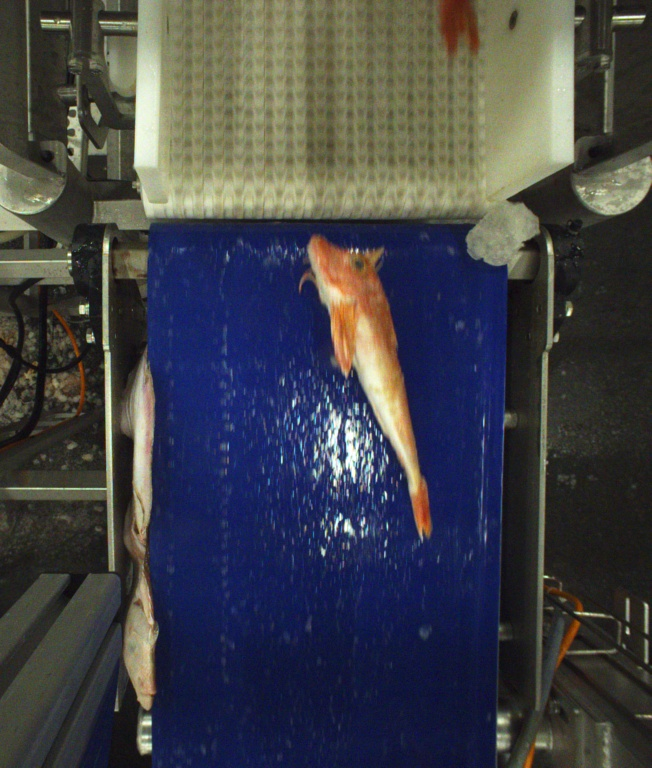GUU: (308, 235, 434, 543)
